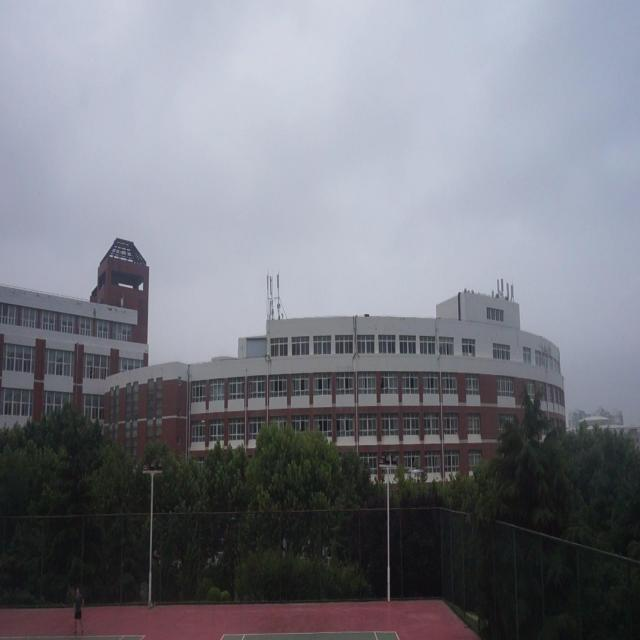UAV: (408, 469, 423, 479)
